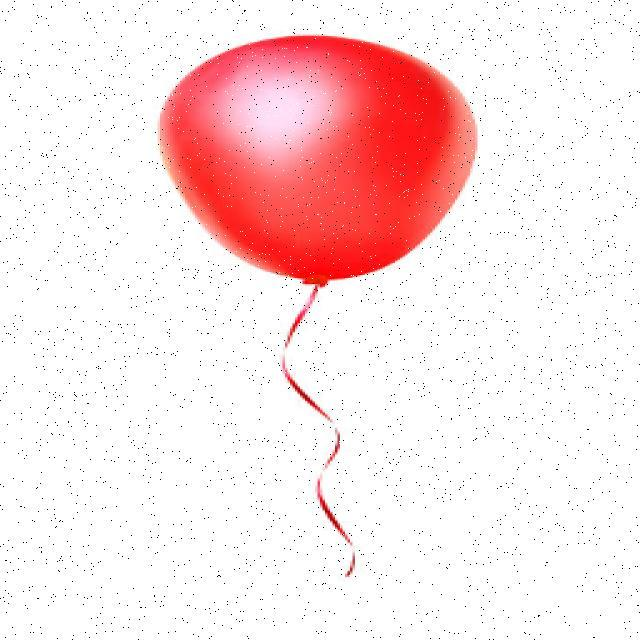red: (156, 33, 478, 287)
